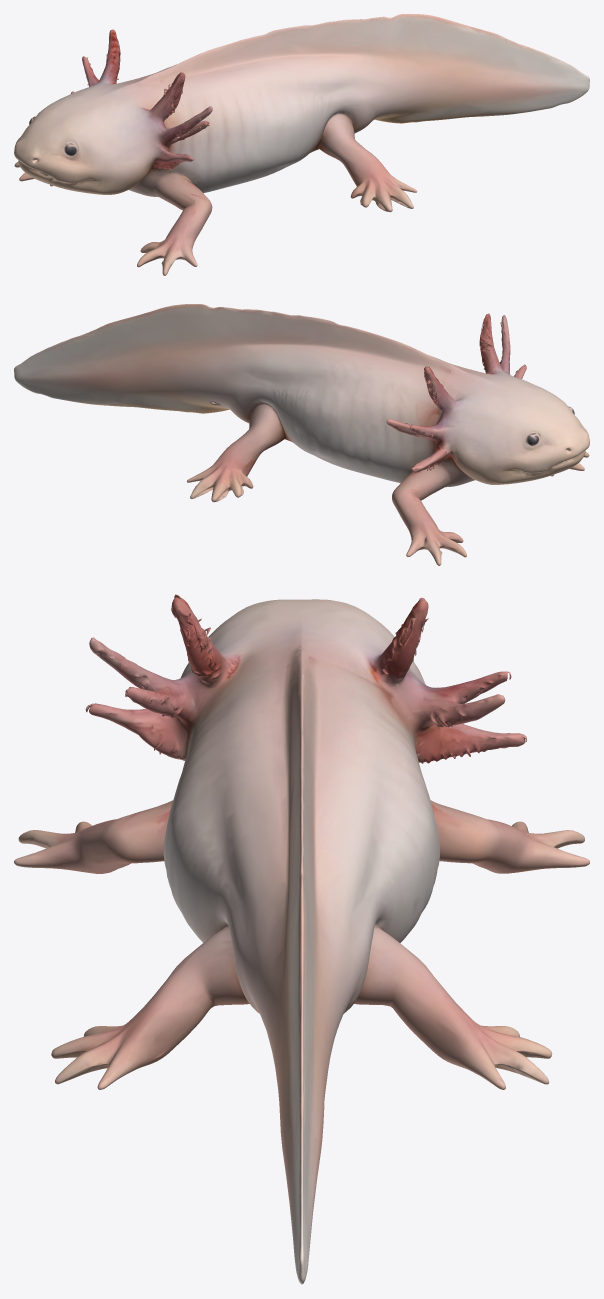
Rendered from axolotl.glb.
The picture shows the model from 3 angles, top to bottom: view 1: azimuth 30°, elevation 25°; view 2: azimuth 150°, elevation 25°; view 3: azimuth 270°, elevation 25°; orthographic projection. The views are drawn at different scales.
Parts seen in each view (by area): view 1: node_0; view 2: node_0; view 3: node_0.
Boxes of the visible parts, x1,y1,x2,y2 form: node_0: [14, 14, 589, 275]; node_0: [14, 304, 589, 565]; node_0: [14, 594, 589, 1284].
Size of the model in its own units: 1.17 by 0.3193 by 0.5441.
1 material, 1 textured.
